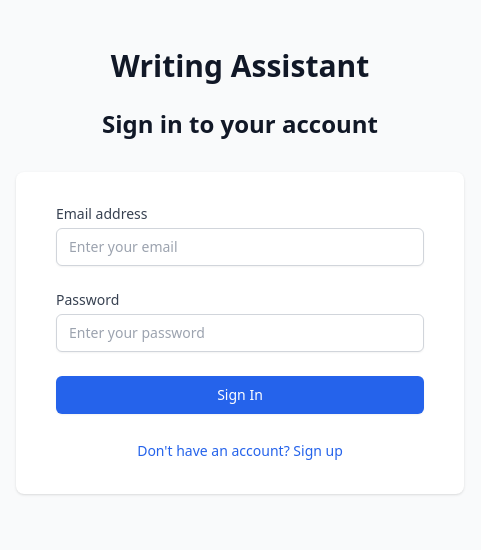
Test: LoginPage › should validate minimum password length
The width and height of the screenshot is (481, 550).
Type "test@example.com" into the field labelled "Email address" at (240, 247), box [56,228,424,266]
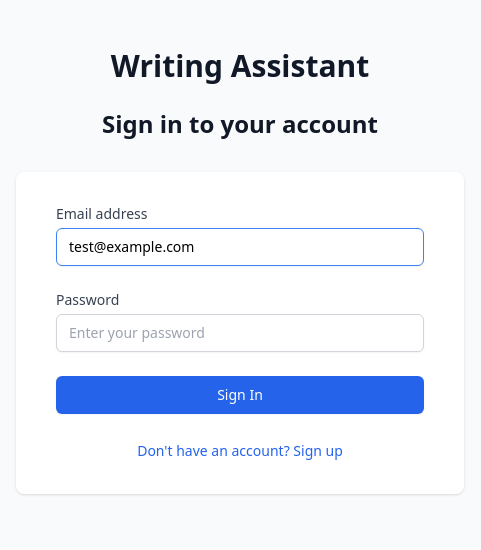
Type "123" into the password field labelled "Password" at (240, 333), box [56,314,424,352]
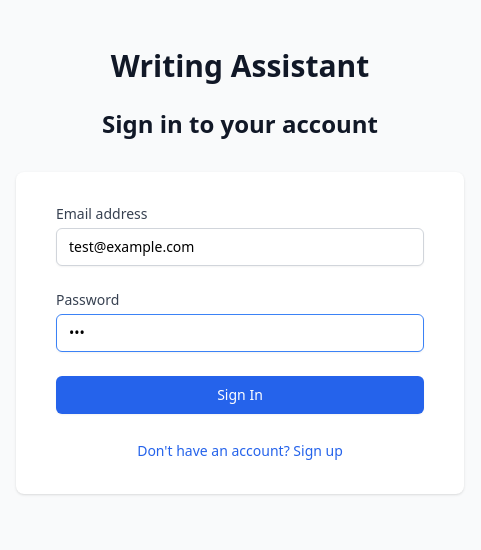
Click the button "Sign In" at (240, 395), box [56,376,424,414]
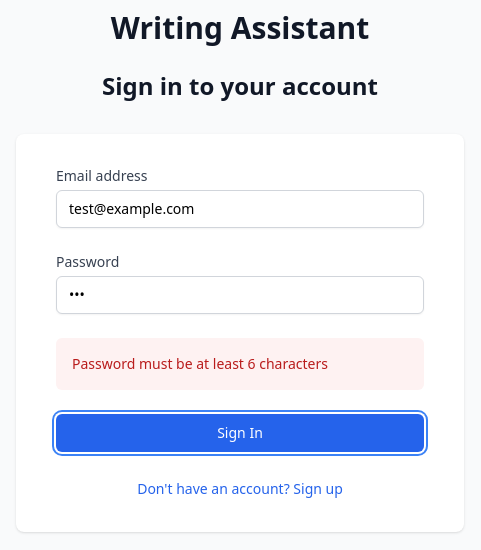
Result: the text "Password must be at least 6 characters" is shown at [72,354,328,373]
